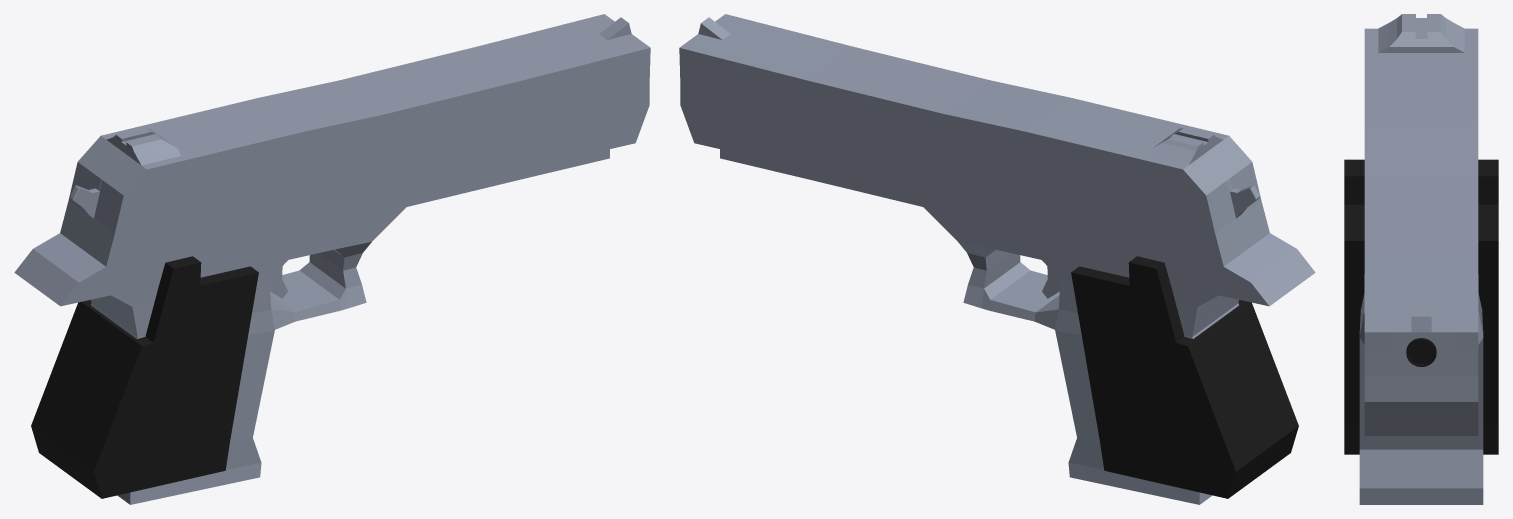
Rendered from pistola.glb.
3 renders of one model, left to right at view 1: azimuth 30°, elevation 25°; view 2: azimuth 150°, elevation 25°; view 3: azimuth 270°, elevation 25°, orthographic. The views are drawn at different scales.
Parts seen in each view (by area): view 1: Cube; view 2: Cube; view 3: Cube.
Boxes of the visible parts, box(x1,y1,x2,y2) form: Cube: box(14, 14, 650, 504); Cube: box(679, 14, 1315, 504); Cube: box(1344, 14, 1498, 504).
Size of the model in its own units: 2.37 by 1.32 by 0.4359.
